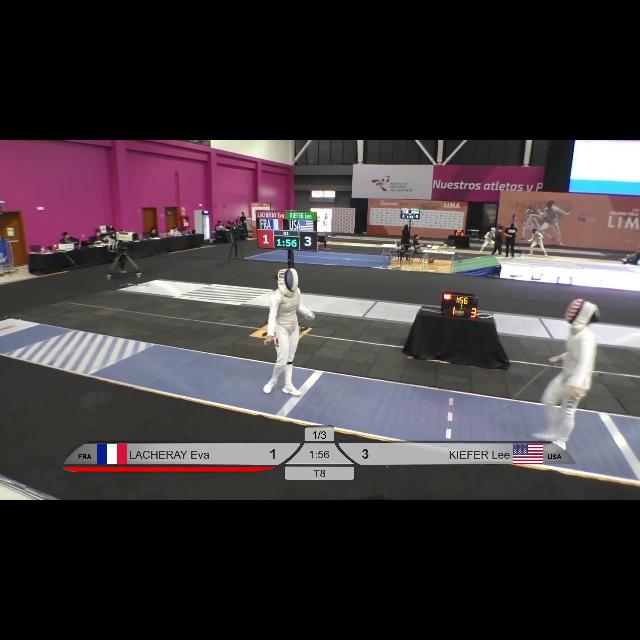blade: (486, 355, 558, 427), (288, 314, 314, 328)
